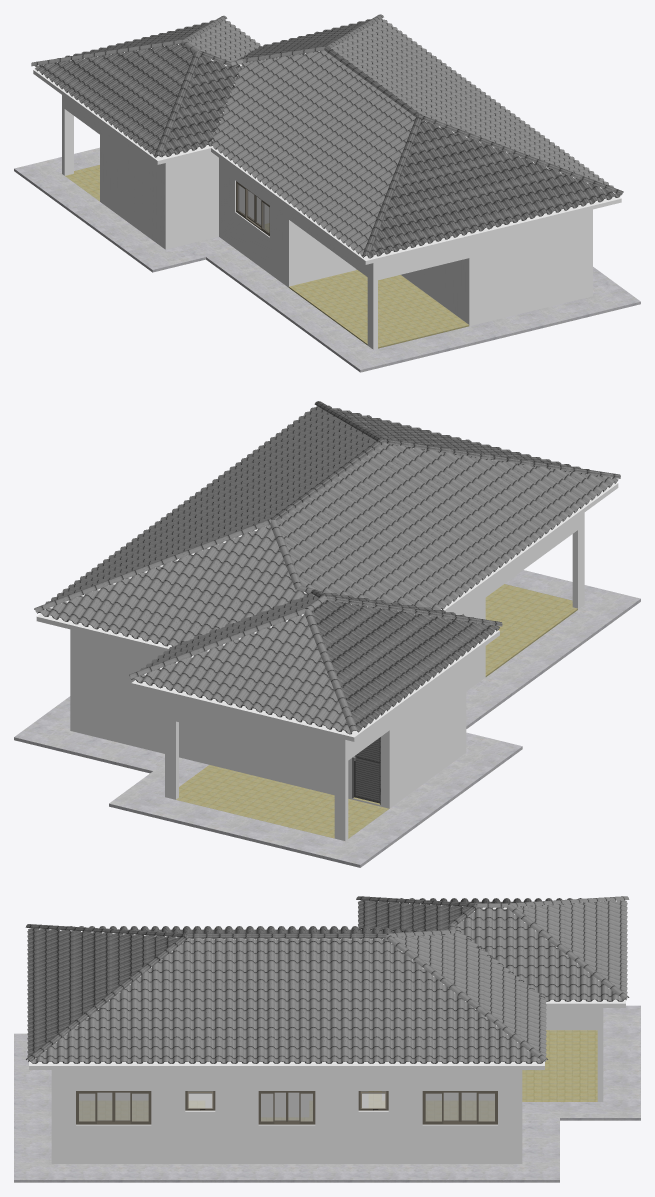
The model's file is residencia.glb.
3 views of the same model, one above another, from view 1: azimuth 30°, elevation 25°; view 2: azimuth 150°, elevation 25°; view 3: azimuth 270°, elevation 25° (orthographic). The views are drawn at different scales.
Visible parts, largest first — view 1: Material2 (×7); view 2: Material2 (×5), Material3; view 3: Material2 (×7).
Part boxes in pixels (x1,y1,x2,y2): Material2 (×7): (14, 14, 640, 372); Material2 (×5): (14, 401, 640, 867); Material3: (352, 737, 380, 804); Material2 (×7): (14, 896, 640, 1182).
Bounding box in the file's own units: 431 × 203 × 656.
15 materials, 8 textured.
